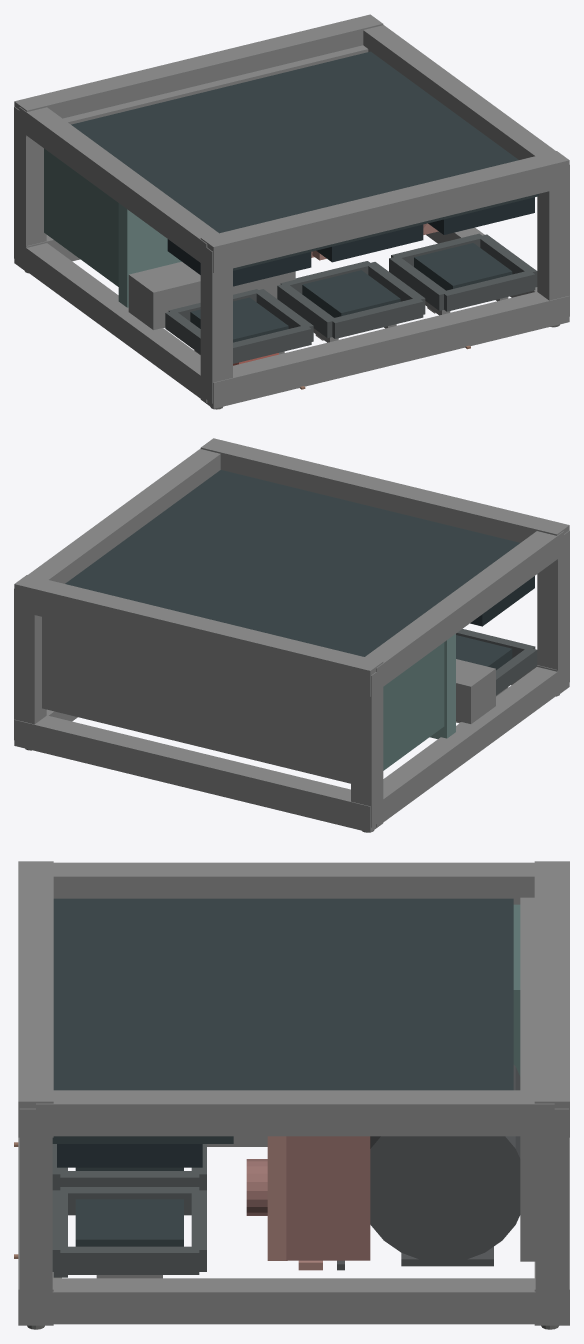
The model's file is Gerador_UniDoom_1_fusiveis.glb.
3 renders of one model, top to bottom at view 1: azimuth 30°, elevation 25°; view 2: azimuth 150°, elevation 25°; view 3: azimuth 270°, elevation 25°, orthographic. The views are drawn at different scales.
Parts seen in each view (by area): view 1: back_wall, top_long_beam_back, top_long_beam_front, bottom_long_beam_back, steel_upright_left_back, steel_upright_left_front, engine_lower_base, steel_upright_right_back, control_console_outer, top_depth_beam_left, top_depth_beam_right, bottom_depth_beam_left (+21 smaller); view 2: back_wall, base_floor, bottom_long_beam_back, bottom_long_beam_front, top_long_beam_back, steel_upright_left_back, steel_upright_left_front, steel_upright_right_back, engine_lower_base, bottom_depth_beam_left, top_depth_beam_left, bottom_depth_beam_right (+6 smaller); view 3: back_wall, steel_upright_right_back, steel_upright_right_front, steel_upright_left_back, motor_rotor, tank_bottom, top_long_beam_back, bottom_long_beam_back, top_depth_beam_right, bottom_depth_beam_right, socket_3_inner_rear, base_floor (+11 smaller).
Boxes of the visible parts, x1,y1,x2,y2 form: back_wall: (71,51,518,233); top_long_beam_back: (200,151,569,272); top_long_beam_front: (200,291,569,408); bottom_long_beam_back: (14,14,383,136); steel_upright_left_back: (19,107,218,266); steel_upright_left_front: (19,243,207,402); engine_lower_base: (44,148,118,286); steel_upright_right_back: (363,25,555,159); control_console_outer: (128,261,295,330); top_depth_beam_left: (200,247,232,403); top_depth_beam_right: (537,165,569,316); bottom_depth_beam_left: (14,106,46,261); back_wall: (65,470,519,656); base_floor: (42,617,350,783); bottom_long_beam_back: (14,575,383,696); bottom_long_beam_front: (14,715,382,832); top_long_beam_back: (200,438,569,560); steel_upright_left_back: (365,531,563,686); steel_upright_left_front: (376,667,563,827); steel_upright_right_back: (28,448,220,583); engine_lower_base: (383,642,444,770); bottom_depth_beam_left: (351,667,383,827); top_depth_beam_left: (537,530,569,690); bottom_depth_beam_right: (14,589,46,739); back_wall: (53,898,513,1090); steel_upright_right_back: (36,1090,554,1136); steel_upright_right_front: (36,1278,554,1324); steel_upright_left_back: (53,862,534,904); motor_rotor: (370,1065,520,1262); tank_bottom: (286,1136,370,1260); top_long_beam_back: (18,861,53,1137); bottom_long_beam_back: (534,861,569,1137); top_depth_beam_right: (19,1108,52,1319); bottom_depth_beam_right: (535,1108,568,1319); socket_3_inner_rear: (75,1199,183,1246); base_floor: (520,897,535,1261).
Bounding box in the file's own units: 2.59 × 1.16 × 2.52.
